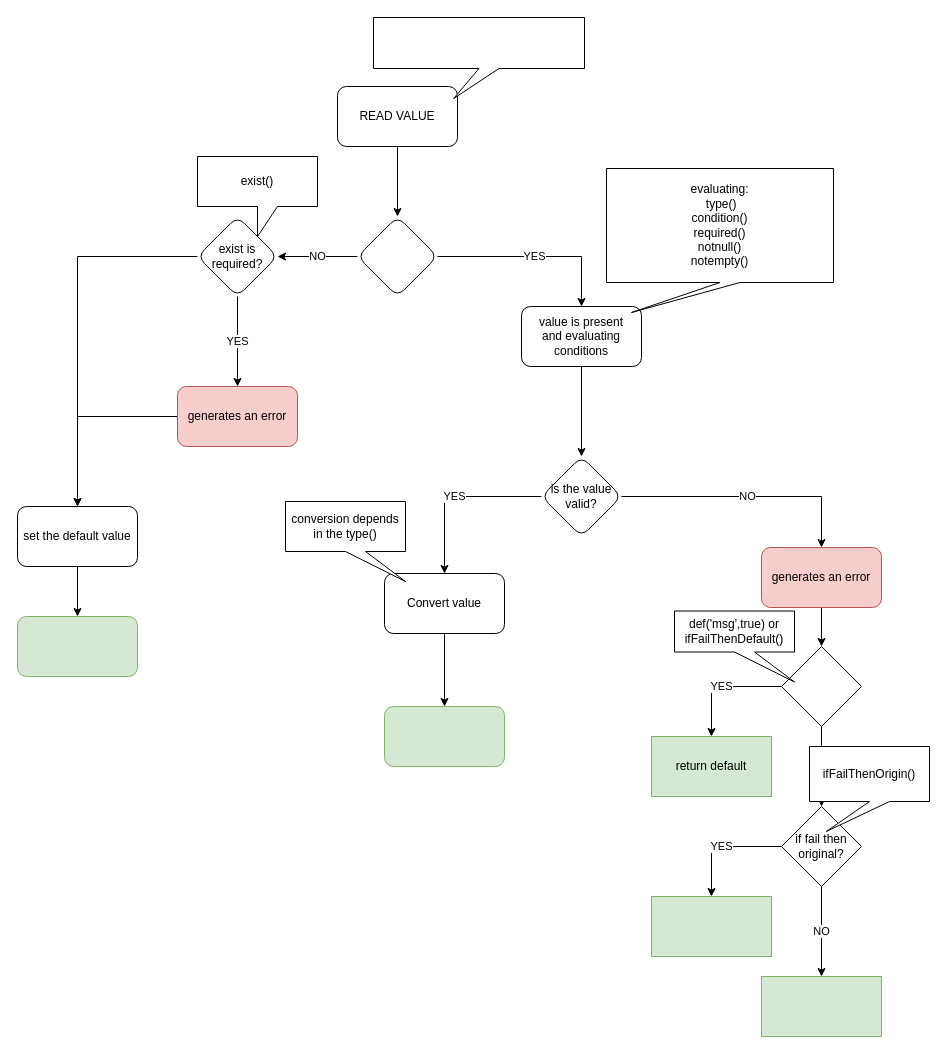
This 947x1054 diagram has some shape labels left out. Here are the shapes that lost their labels. From the top down, the centre of each, then its label:
At point (478, 57): "get(),post(),request(),set(),getFile()".
At point (397, 256): "value is present?".
At point (77, 646): "RETURN VALUE".
At point (821, 686): "if fail then default?".
At point (444, 736): "RETURN VALUE CONVERTED".
At point (711, 926): "return original value".
At point (821, 1006): "return null".
